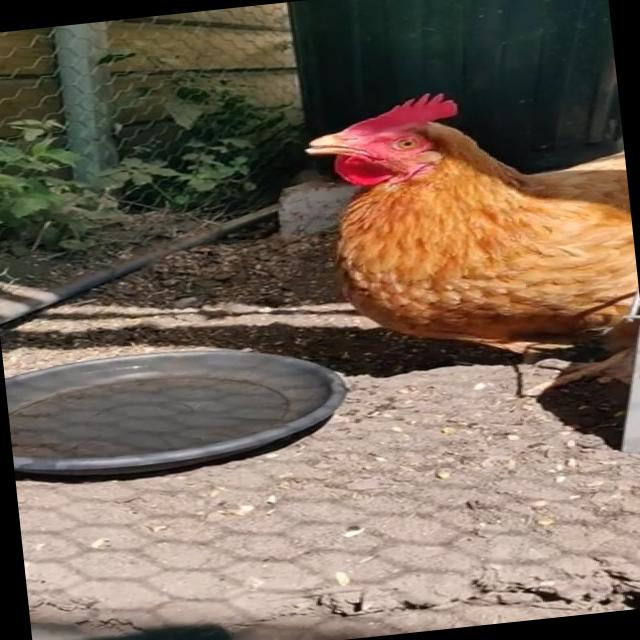drinking: (249, 88, 640, 387)
